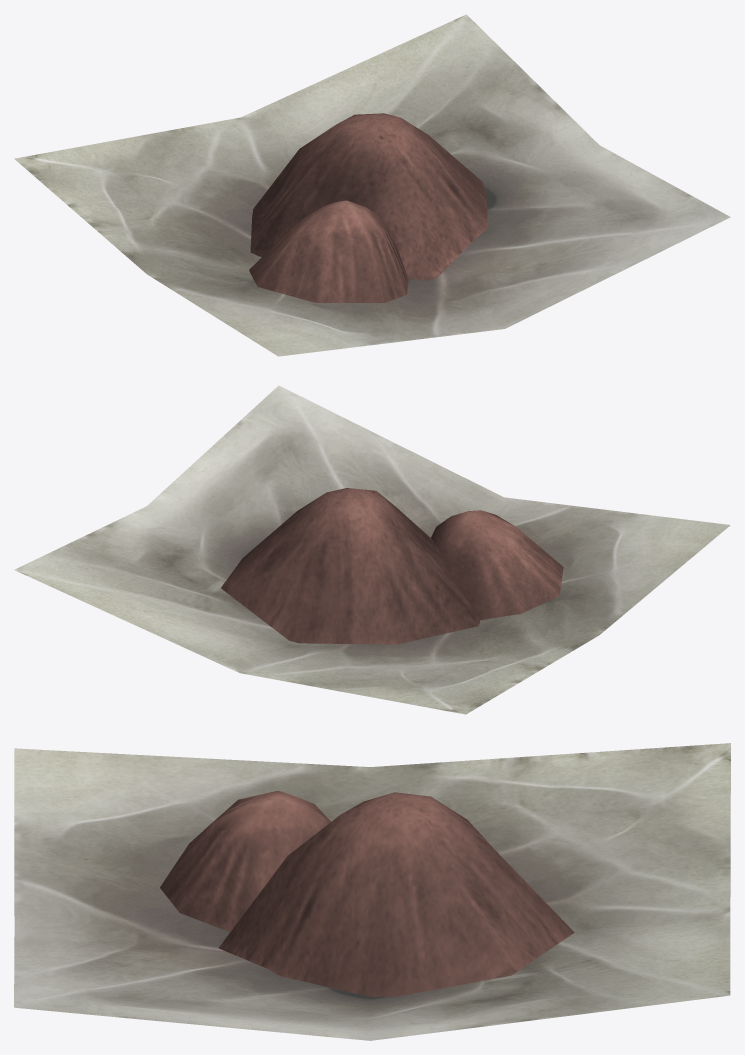
File: jieduyao.FBX
The picture shows the model from 3 angles, top to bottom: view 1: azimuth 30°, elevation 25°; view 2: azimuth 150°, elevation 25°; view 3: azimuth 270°, elevation 25°; orthographic projection. The views are drawn at different scales.
Visible parts, largest first — view 1: jieduyao; view 2: jieduyao; view 3: jieduyao.
Boxes of the visible parts, <box> form: jieduyao: <box>14,14,730,356</box>; jieduyao: <box>14,385,730,714</box>; jieduyao: <box>14,743,730,1040</box>.
Bounding box in the file's own units: 20.12 × 5.22 × 20.39.
Materials: 1 (1 with a texture image).
